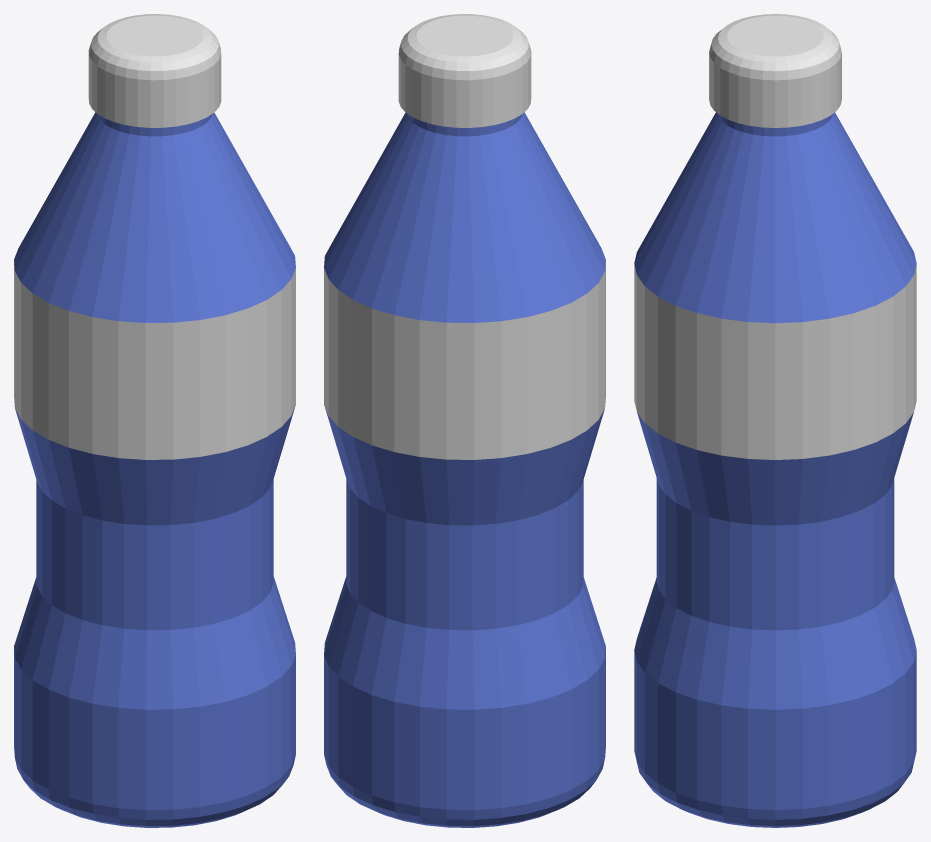
File: Bottle .fbx
The picture shows the model from 3 angles, left to right: view 1: azimuth 30°, elevation 25°; view 2: azimuth 150°, elevation 25°; view 3: azimuth 270°, elevation 25°; orthographic projection.
Parts seen in each view (by area): view 1: Cylinder; view 2: Cylinder; view 3: Cylinder.
Part boxes in pixels (x1=…): Cylinder: x1=14, y1=14, x2=295, y2=827; Cylinder: x1=324, y1=14, x2=605, y2=827; Cylinder: x1=634, y1=14, x2=916, y2=827.
Bounding box in the file's own units: 82.93 × 240 × 82.93.
